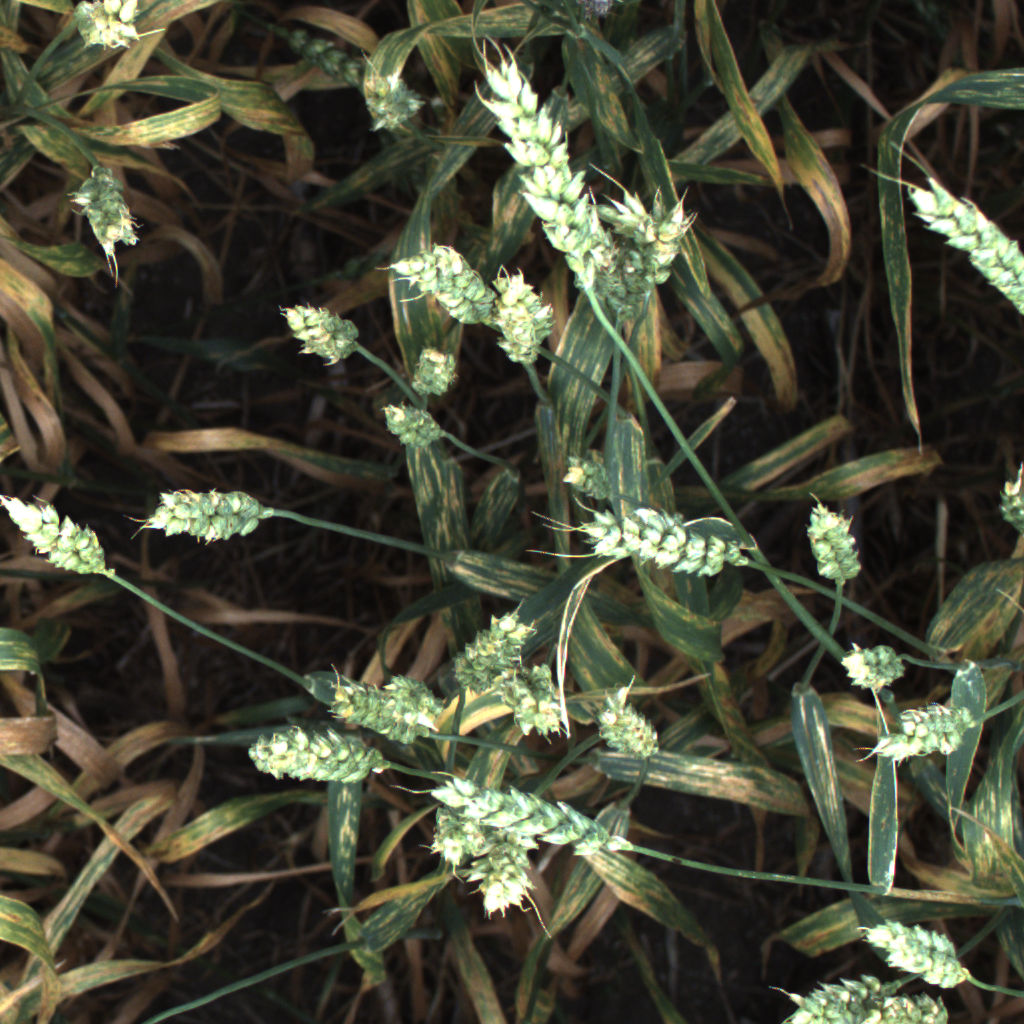wheat_head: (457, 35, 623, 307), (898, 159, 1024, 337), (416, 769, 640, 865), (578, 502, 758, 584), (235, 717, 397, 798), (0, 485, 119, 588), (852, 908, 988, 995), (450, 598, 547, 703), (390, 240, 500, 330), (457, 814, 545, 924), (269, 289, 372, 379), (64, 155, 146, 263), (770, 966, 912, 1024), (422, 774, 495, 881), (137, 485, 264, 546), (589, 680, 675, 770), (640, 184, 706, 301), (491, 663, 584, 746), (489, 260, 556, 373), (322, 684, 439, 748), (599, 192, 652, 324), (798, 487, 863, 594), (60, 0, 163, 66), (831, 633, 931, 699), (861, 706, 977, 760), (394, 332, 474, 408), (367, 398, 459, 463), (351, 56, 428, 129), (376, 667, 457, 732), (552, 444, 624, 510), (978, 460, 1024, 540), (853, 992, 960, 1024), (916, 695, 999, 726)
